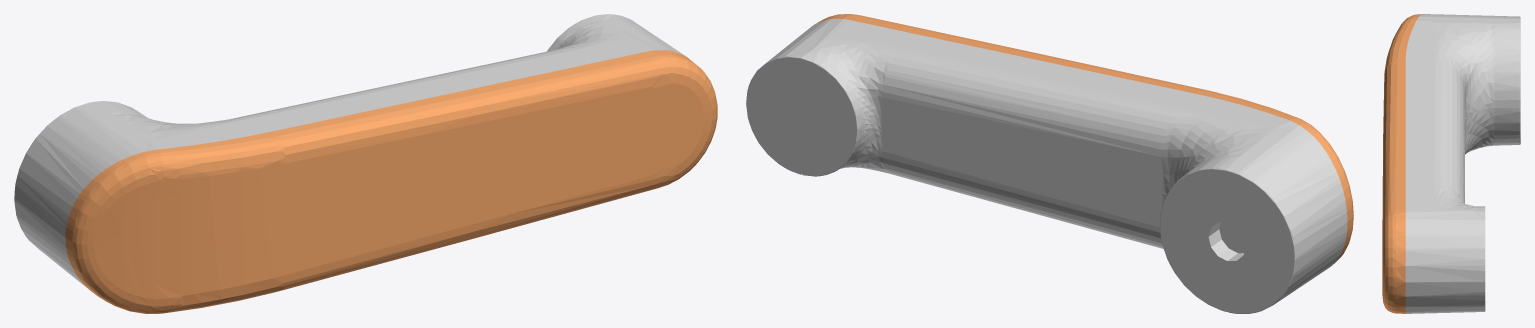
The picture shows the model from 3 angles, left to right: view 1: azimuth 30°, elevation 25°; view 2: azimuth 150°, elevation 25°; view 3: azimuth 270°, elevation 25°; orthographic projection. The views are drawn at different scales.
Visible parts, largest first — view 1: Link; view 2: Link; view 3: Link.
Boxes of the visible parts, x1,y1,x2,y2 form: Link: [14, 14, 717, 313]; Link: [746, 14, 1353, 313]; Link: [1382, 14, 1520, 313].
Bounding box in the file's own units: 0.3089 × 0.0761 × 0.0785.
